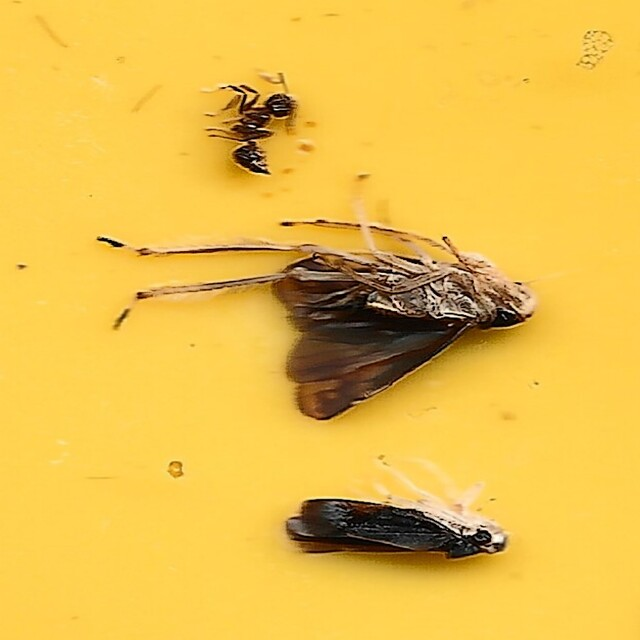Hemiptera: (102, 234, 538, 422), (282, 494, 514, 560)
Hymenoptera: (200, 80, 297, 178)
